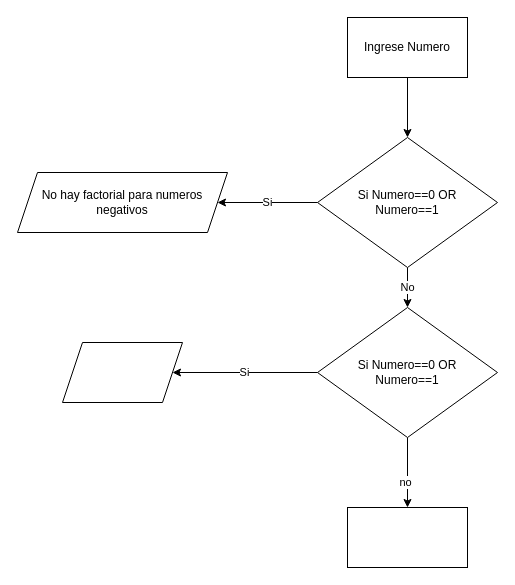
The diagram is 515 pixels wide and 585 high, and some of its shapes have lost their labels. Each missing label, with the centre of its shape:
"Factorial es 1" goes at [122,372].
"I=1 resultado=0" goes at [407,537].
